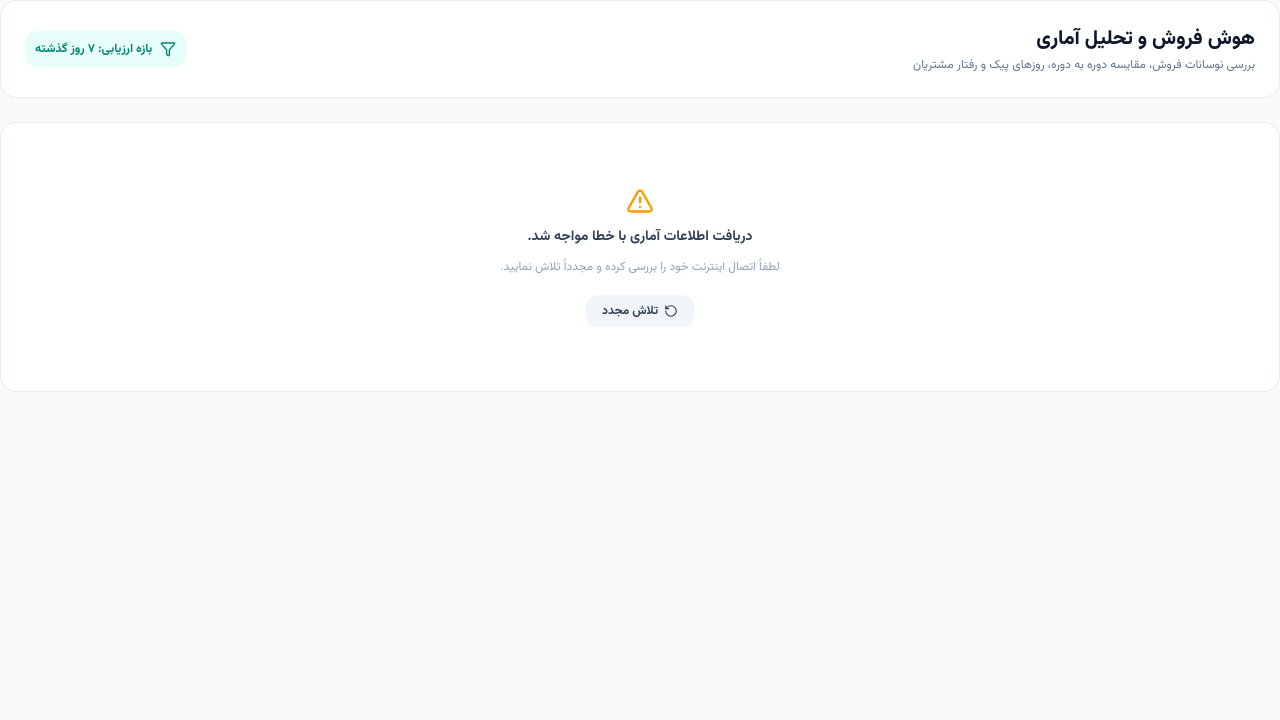
Test: [page] AnalyticsPage › refetches endpoint when retry is pressed after a failure
Click the button "تلاش مجدد" at (640, 311), box [586, 295, 694, 327]
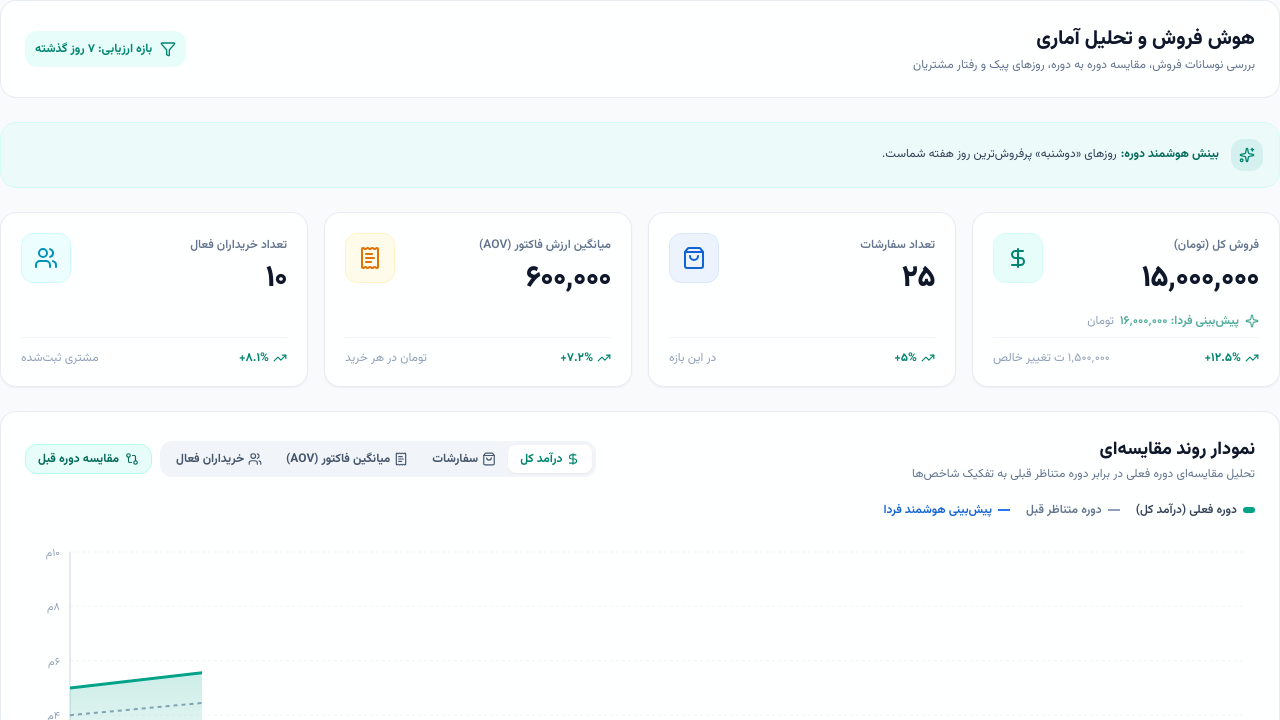
Result: the text "بینش هوشمند دوره:" is shown at [1121, 145, 1219, 163]
Result: the message is gone
